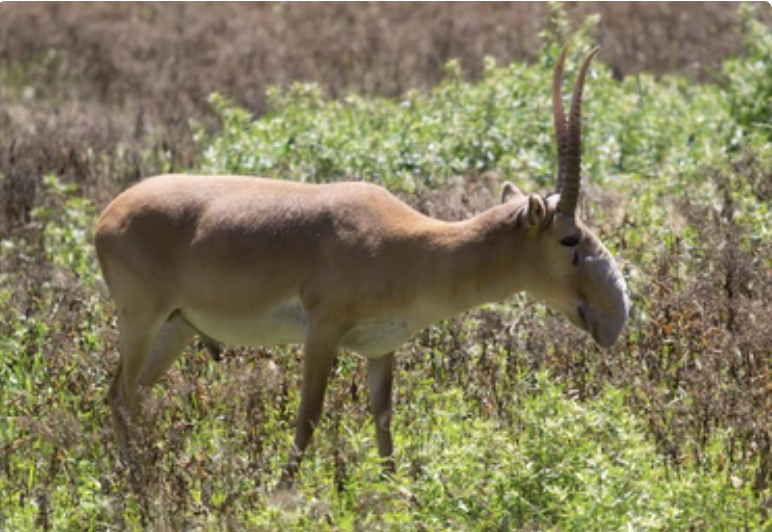saiga: (99, 41, 633, 470)
